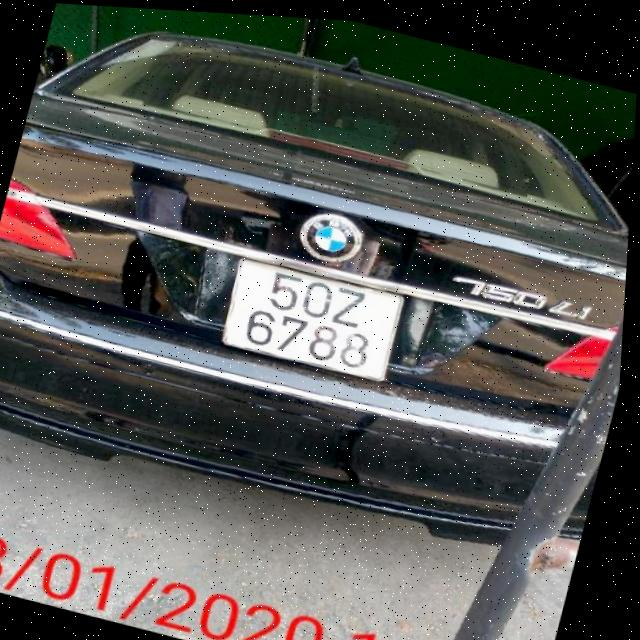car: (0, 0, 640, 583)
plate: (210, 244, 417, 397)
